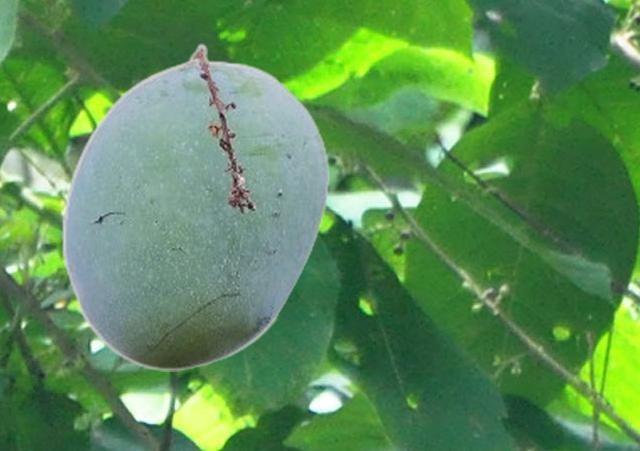green_mango: (61, 43, 329, 370)
